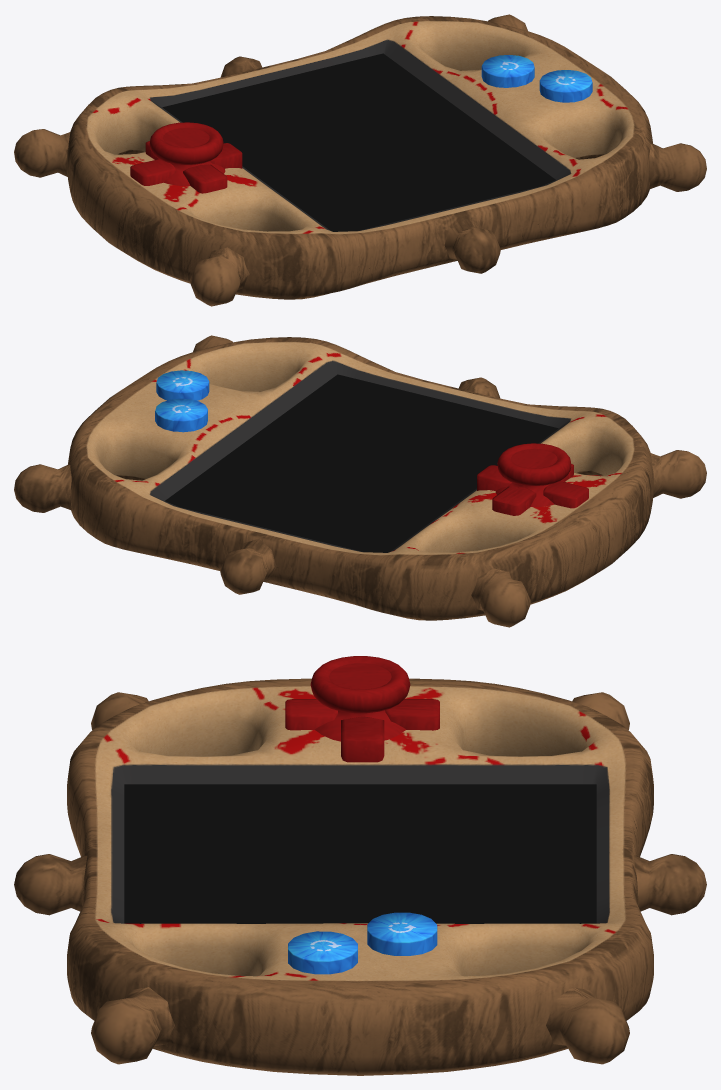
The model's file is GameConsole.fbx.
3 views of the same model, one above another, from view 1: azimuth 30°, elevation 25°; view 2: azimuth 150°, elevation 25°; view 3: azimuth 270°, elevation 25° (orthographic). The views are drawn at different scales.
Visible parts, largest first — view 1: GameConsole_Body, GameConsole_Screen, GameConsole_WheelGrips, GameConsole_Stick, GameConsole_LetterButtons, GameConsole_DPad; view 2: GameConsole_Body, GameConsole_Screen, GameConsole_WheelGrips, GameConsole_Stick, GameConsole_LetterButtons, GameConsole_DPad; view 3: GameConsole_Body, GameConsole_Screen, GameConsole_WheelGrips, GameConsole_Stick, GameConsole_LetterButtons, GameConsole_DPad.
Part boxes in pixels (box(x1,y1,x2,y2)): GameConsole_Body: box(67, 16, 652, 299); GameConsole_Screen: box(162, 53, 555, 231); GameConsole_WheelGrips: box(14, 14, 706, 306); GameConsole_Stick: box(149, 122, 225, 185); GameConsole_LetterButtons: box(481, 55, 592, 102); GameConsole_DPad: box(130, 141, 242, 193); GameConsole_Body: box(68, 337, 653, 620); GameConsole_Screen: box(165, 374, 558, 552); GameConsole_WheelGrips: box(14, 335, 706, 627); GameConsole_Stick: box(495, 443, 571, 506); GameConsole_LetterButtons: box(155, 370, 209, 432); GameConsole_DPad: box(477, 464, 588, 515); GameConsole_Body: box(67, 678, 653, 1075); GameConsole_Screen: box(124, 784, 596, 923); GameConsole_WheelGrips: box(14, 692, 706, 1064); GameConsole_Stick: box(310, 656, 410, 741); GameConsole_LetterButtons: box(288, 912, 437, 974); GameConsole_DPad: box(285, 699, 439, 762).
Size of the model in its own units: 447 by 88.18 by 391.
